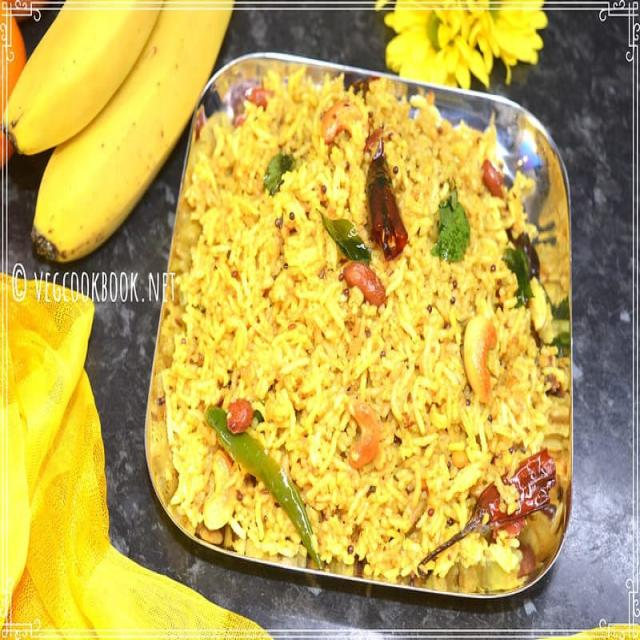puliyogare: (145, 60, 562, 600)
